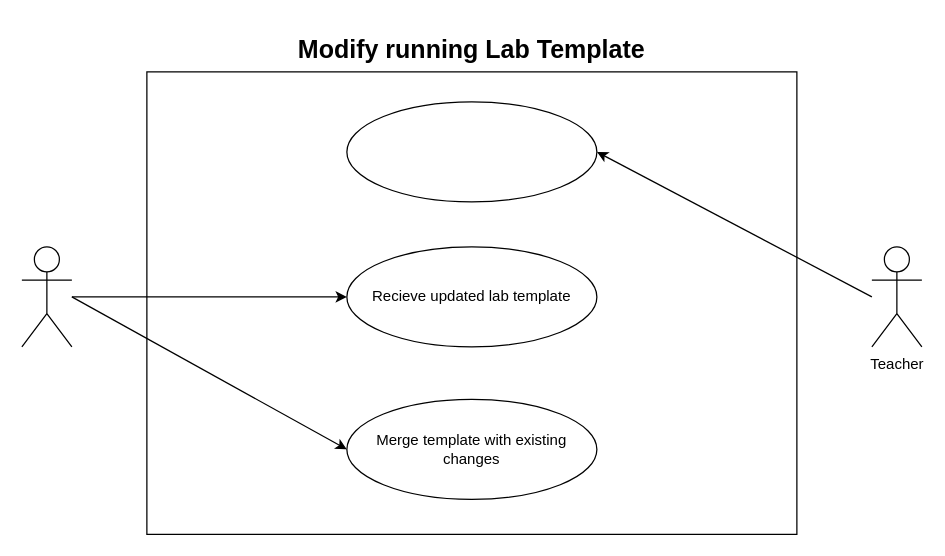
Some shapes in this 945 by 556 pixel diagram are drawn without their labels. The shapes that lost their labels are listed below. From the top down, each one's centre as x and y in pixels, then its label:
At (471,151): "Modify a running template".
At (46,296): "Student".
